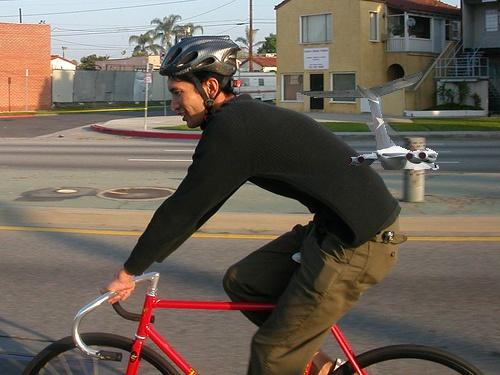tampered: (297, 72, 439, 170)
